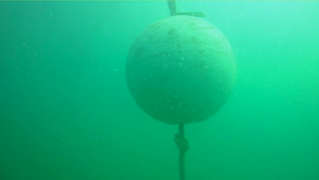buoy: (124, 15, 237, 125)
